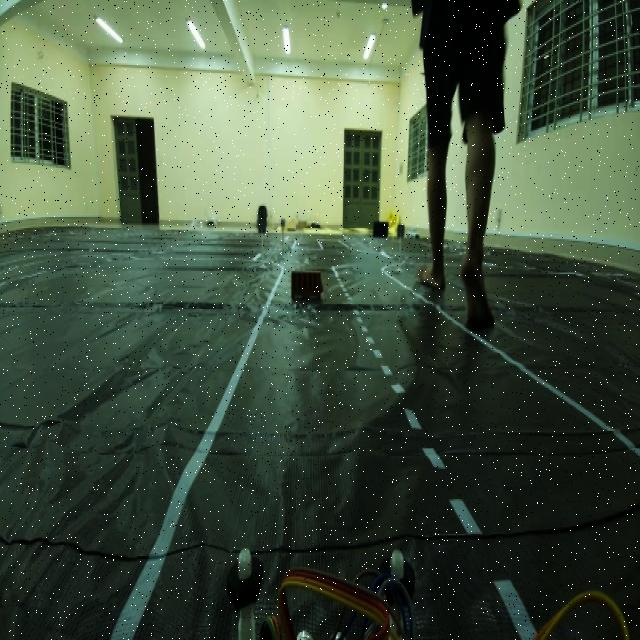roadblock: (286, 263, 325, 309)
